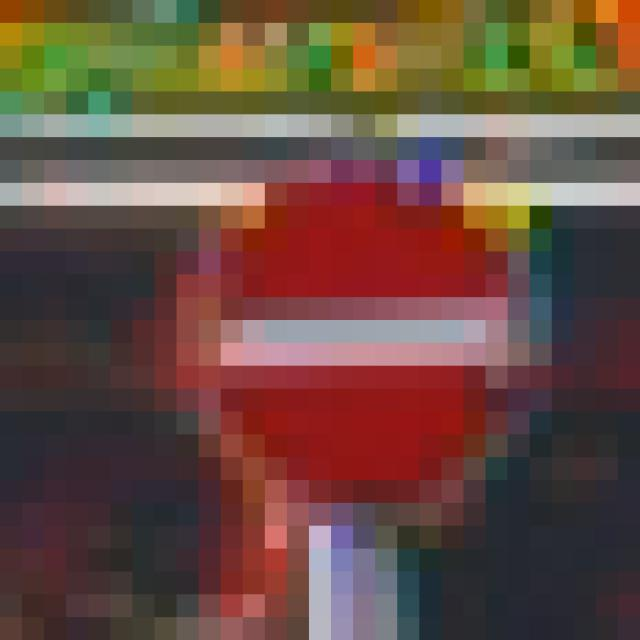No Entry: (134, 115, 531, 527)
